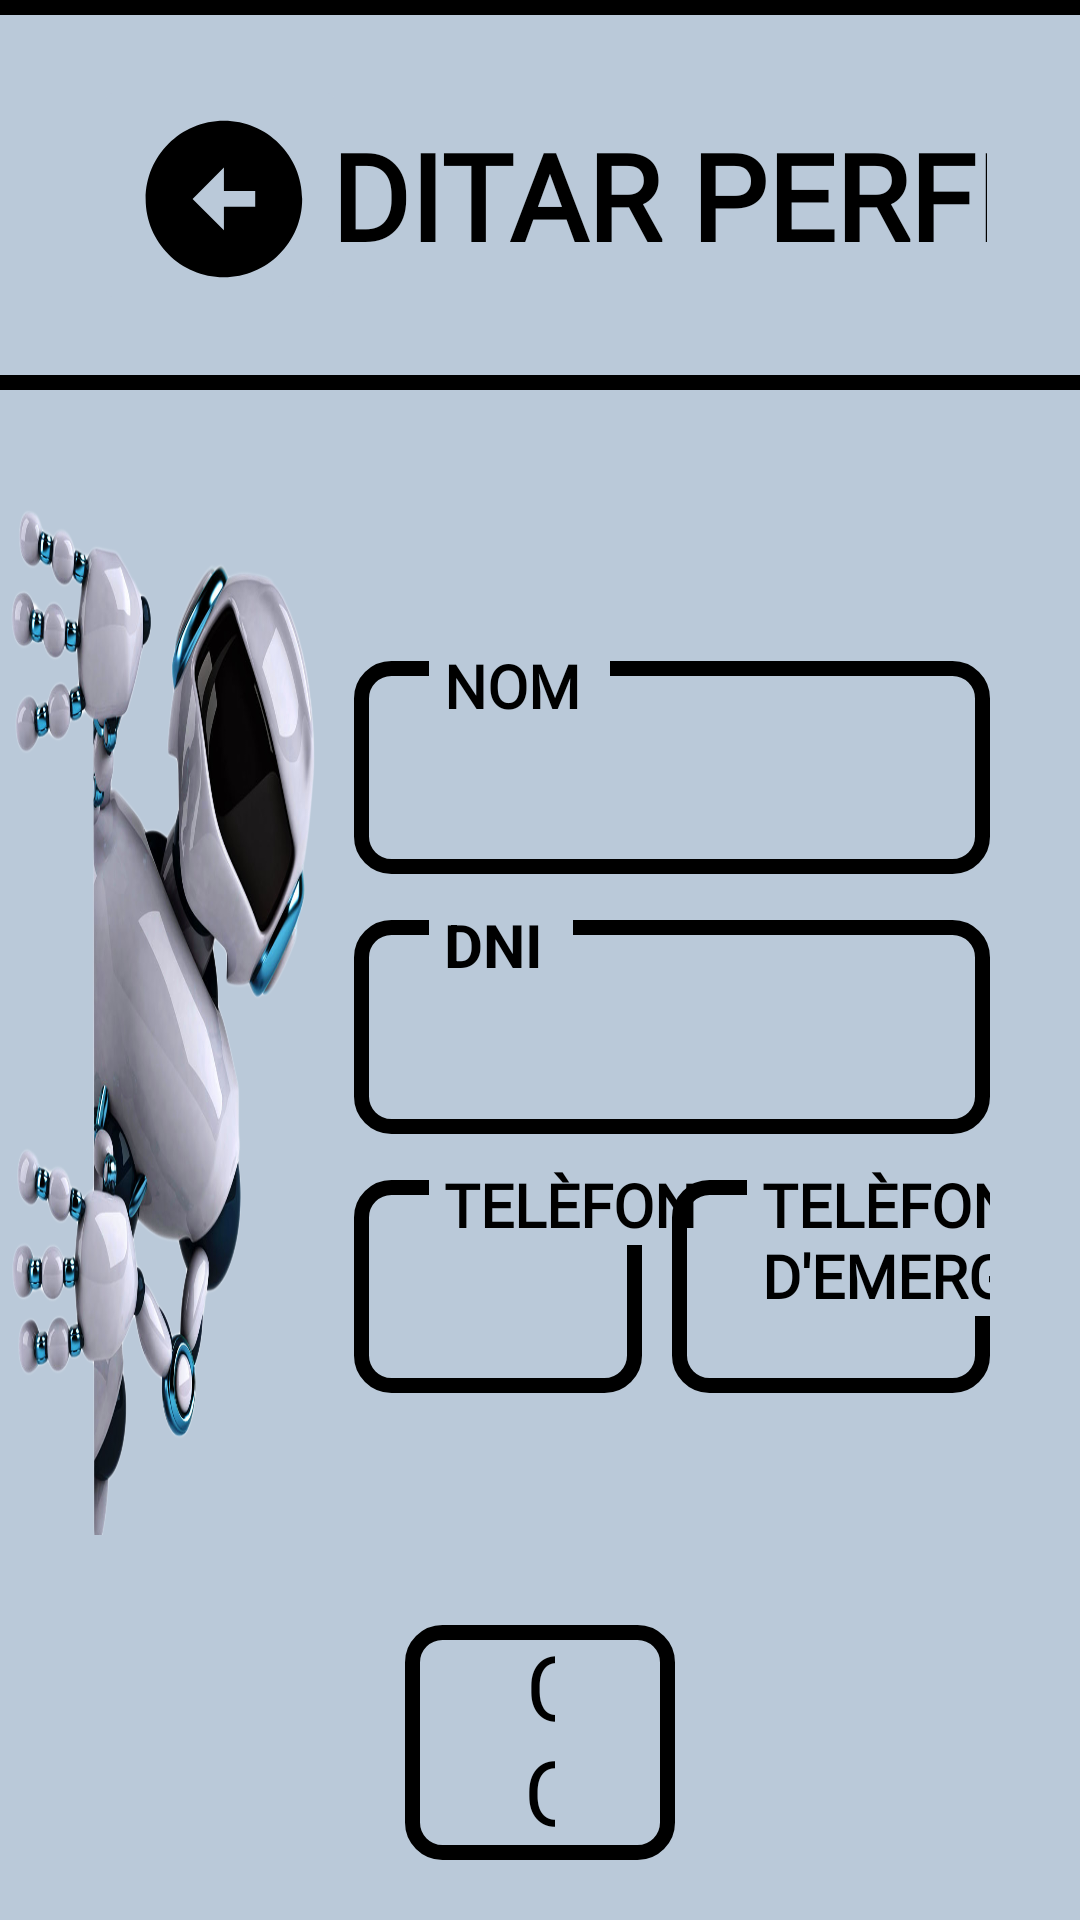

Locate icon controls on the screen. Image size 1080px x 1920px, boxes as region(x1, y1, x2, y2).
arrow circle left: region(145, 120, 303, 278)
